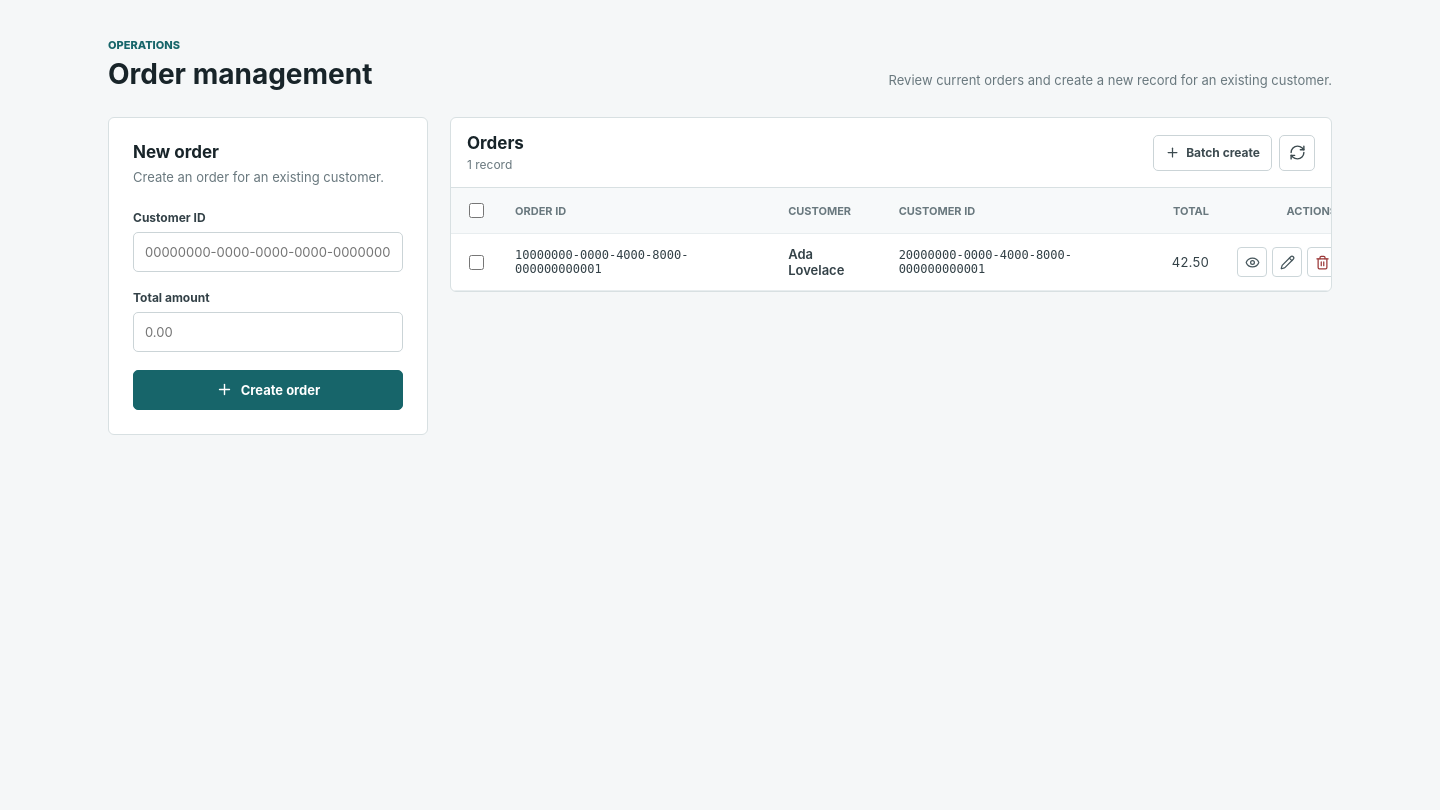
it: orders page › edits and deletes an order through the row actions
The width and height of the screenshot is (1440, 810).
Click the button named "Edit order 10000000-0000-4000-8000-000000000001".
click(1287, 262)  # box [1272, 247, 1302, 277]
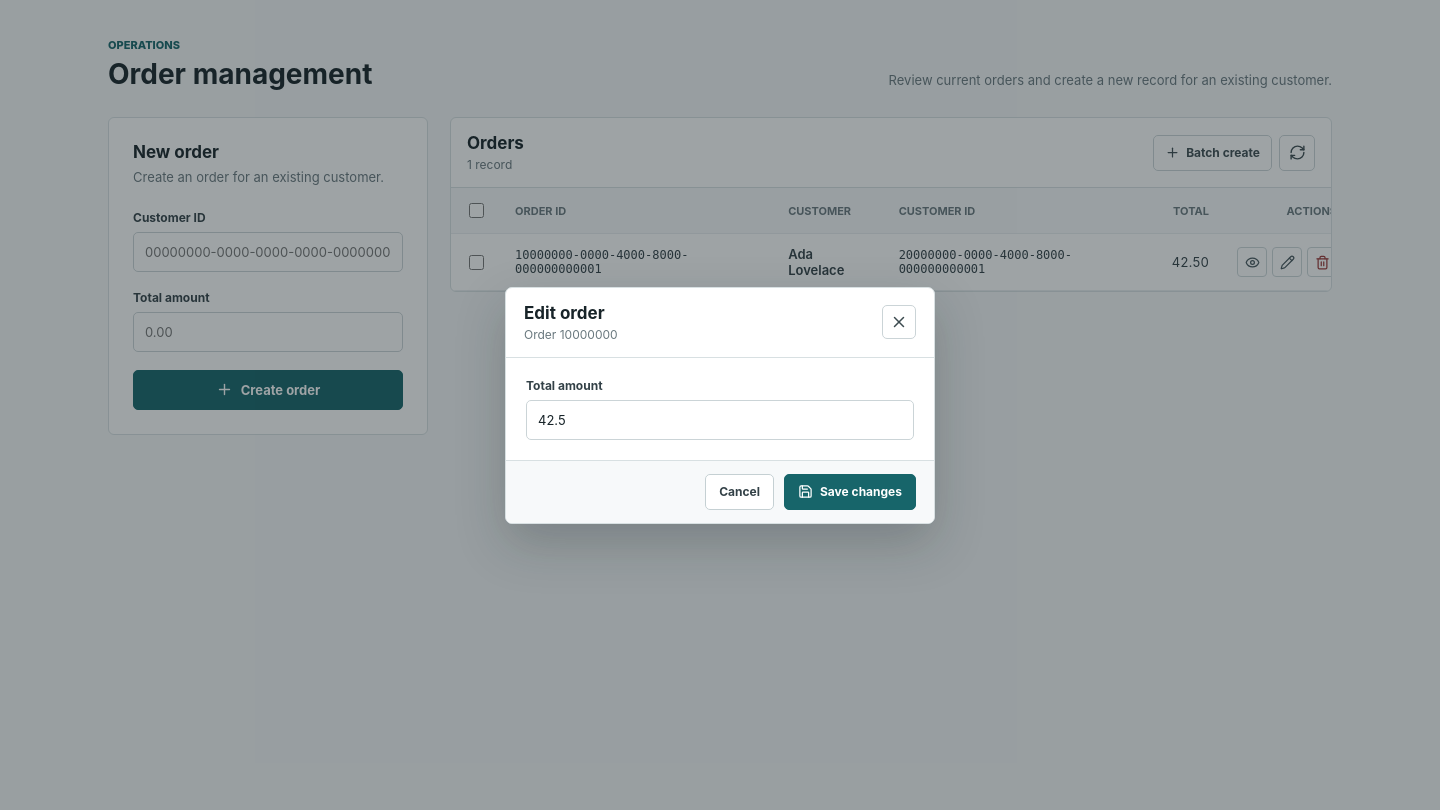
Replace the text in the number field named "editTotalAmount" with "64" at (720, 420), box [526, 400, 914, 440]
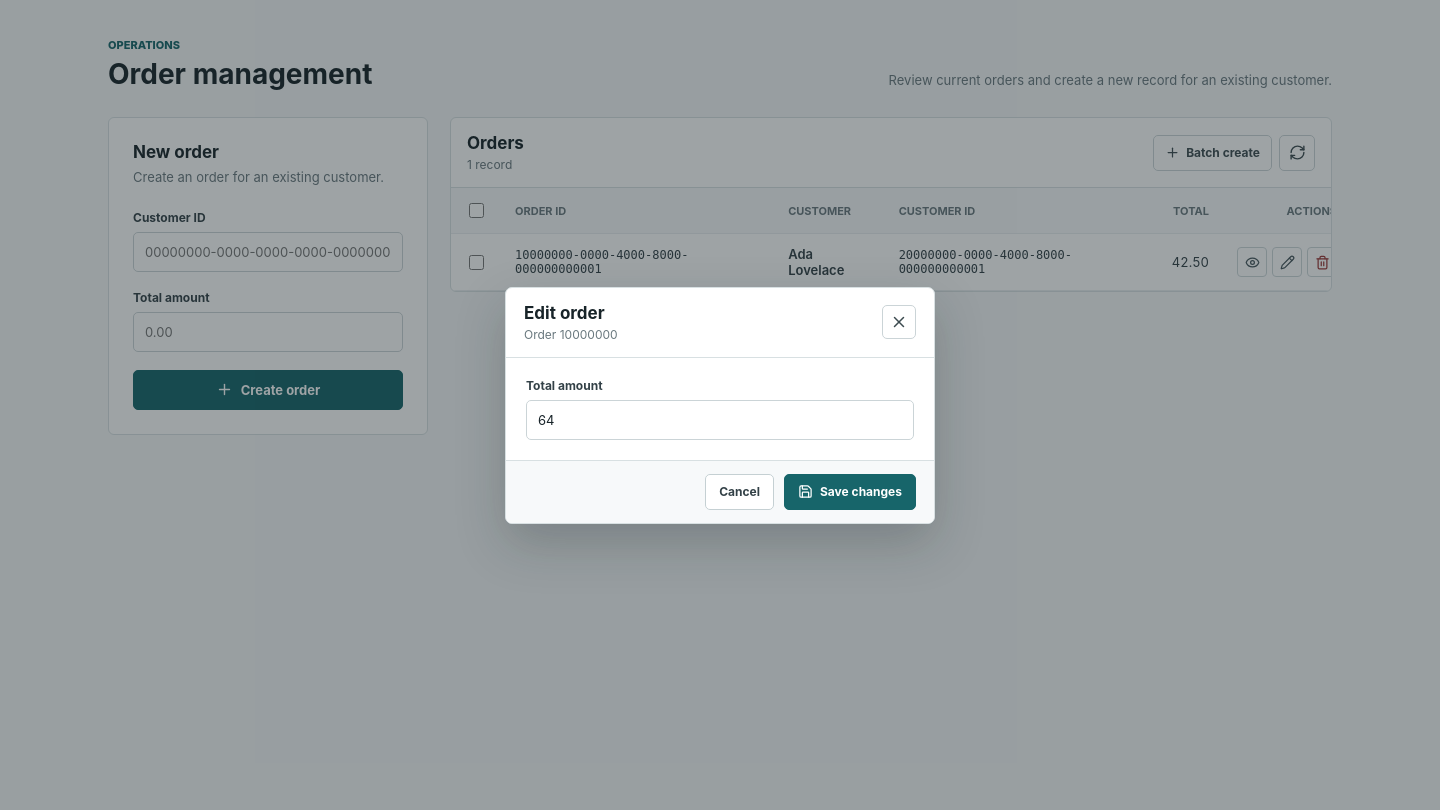
Submit the form with id "edit-order-form", box [526, 378, 914, 440]
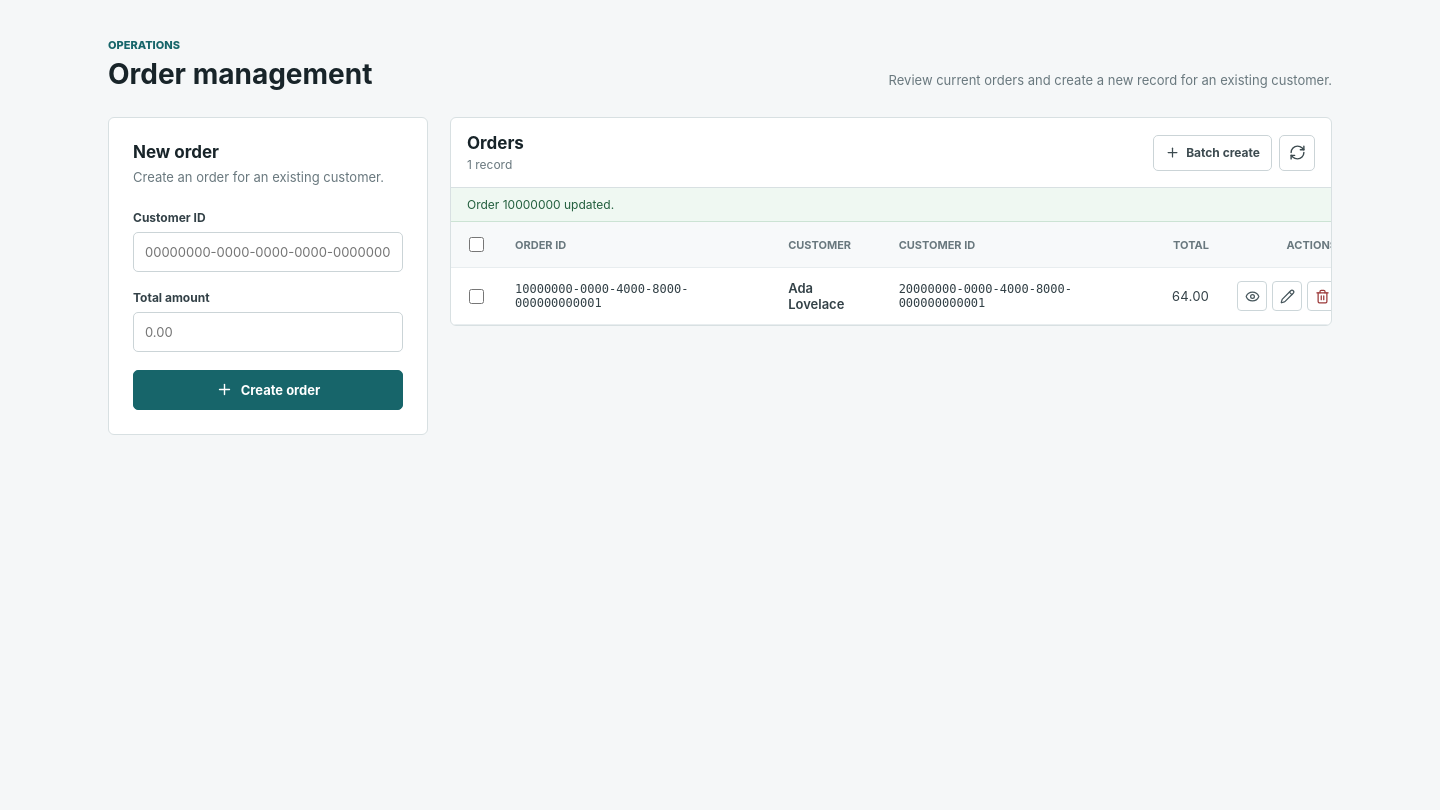
Check: the text "64.00" is shown, box [1158, 268, 1223, 324]
Click the button named "Delete order 10000000-0000-4000-8000-000000000001".
click(1322, 296)  # box [1307, 281, 1337, 311]
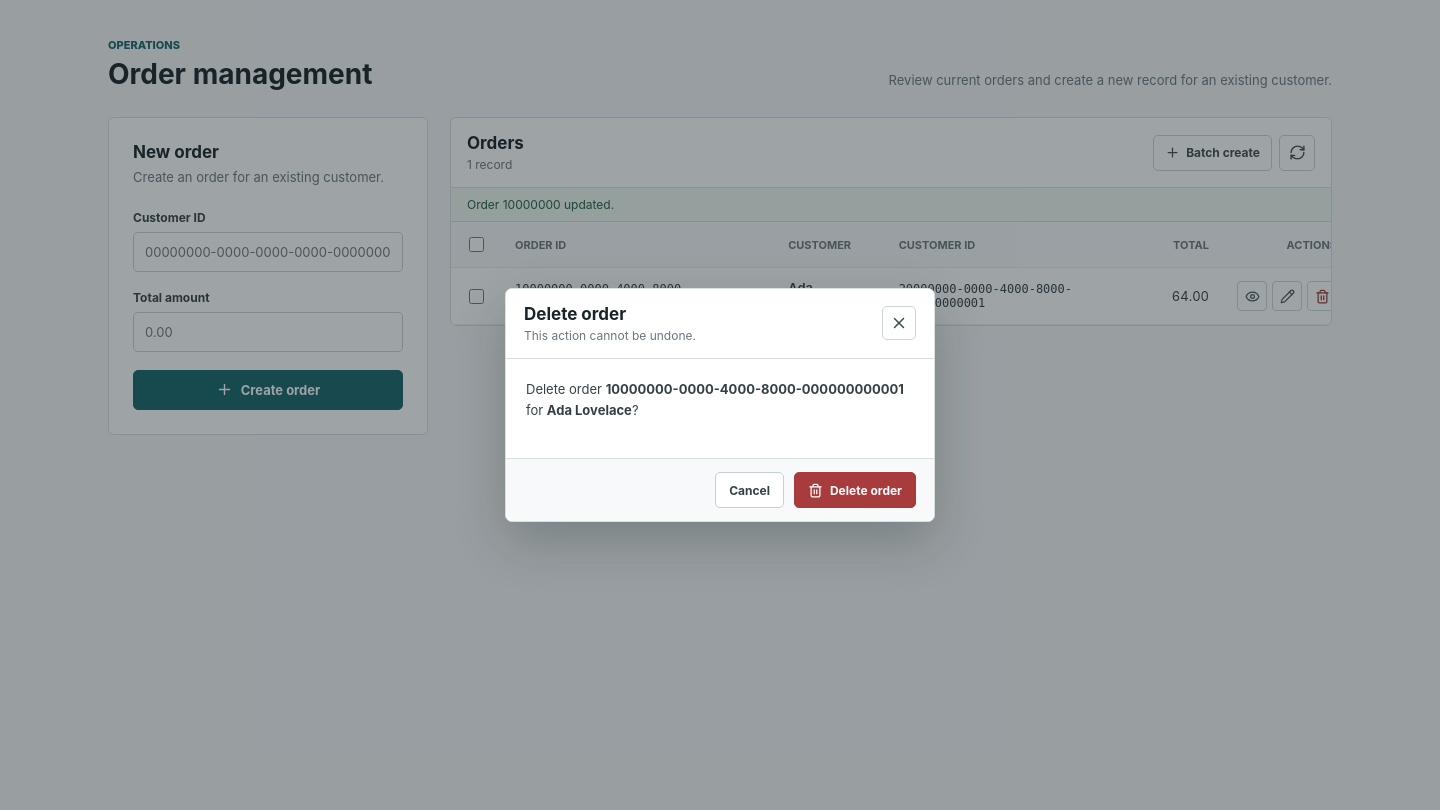
Click the button with class "button--danger".
click(855, 490)  # box [794, 472, 916, 508]
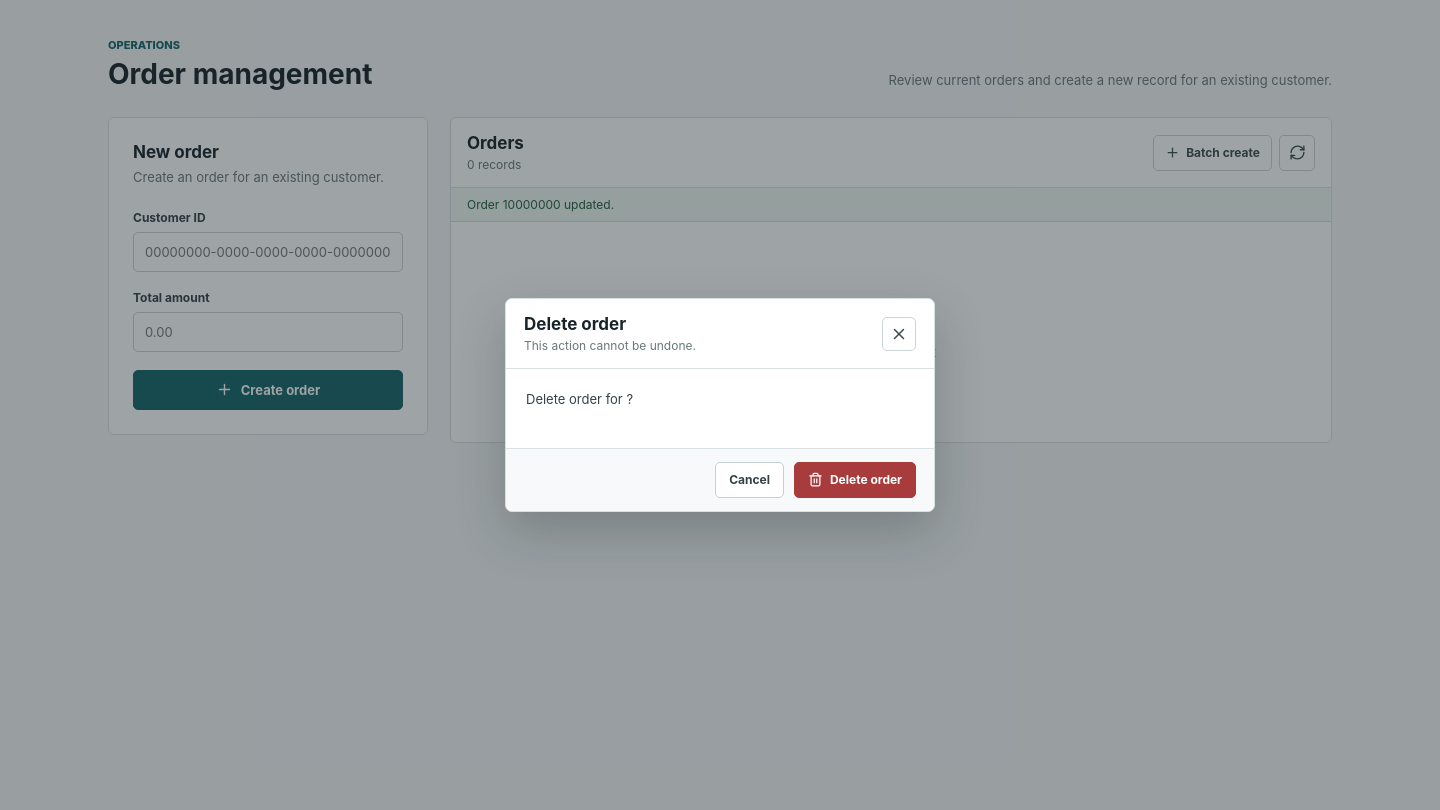
Check: the text "No orders yet" is shown, box [846, 342, 936, 360]
